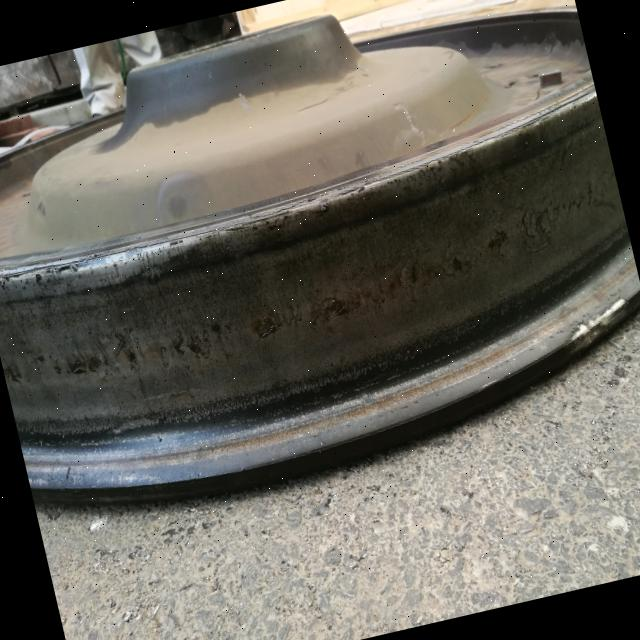Peeling: (360, 255, 425, 312), (548, 180, 601, 218), (311, 291, 357, 328), (175, 333, 214, 363), (522, 208, 552, 245), (67, 352, 105, 379), (439, 253, 475, 281), (211, 319, 236, 355), (253, 311, 281, 340), (485, 227, 513, 255), (3, 358, 24, 385), (126, 348, 140, 371)
